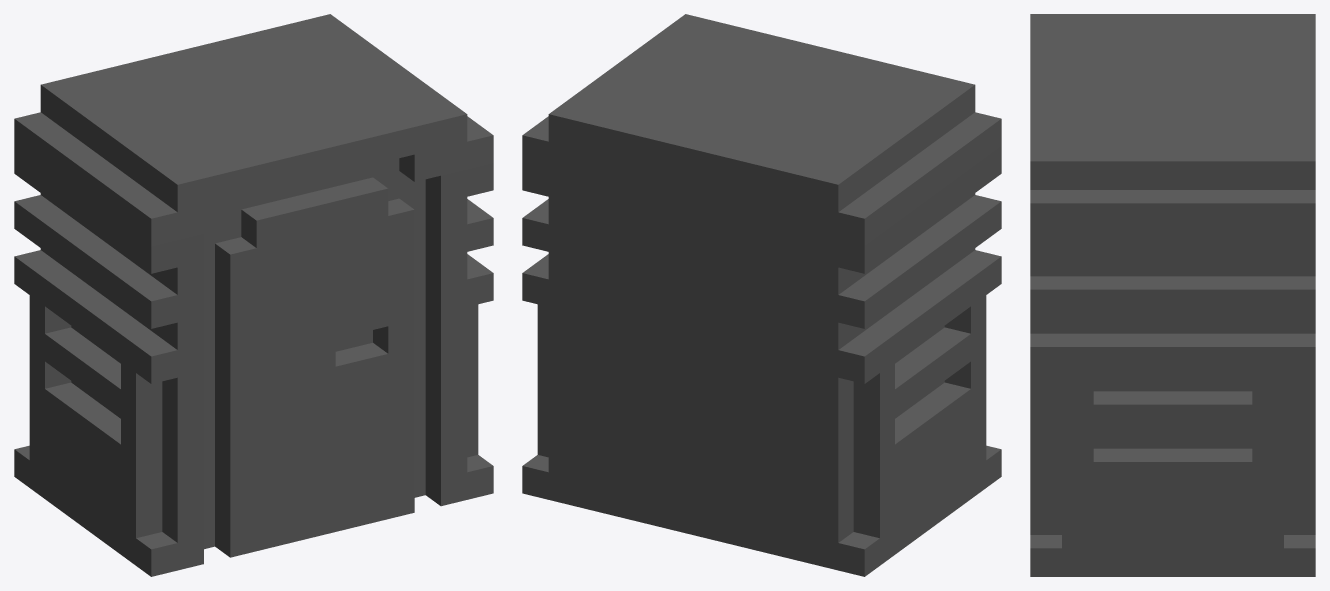
The model's file is scene_store10.obj.
The picture shows the model from 3 angles, left to right: view 1: azimuth 30°, elevation 25°; view 2: azimuth 150°, elevation 25°; view 3: azimuth 270°, elevation 25°; orthographic projection. The views are drawn at different scales.
Size of the model in its own units: 13 by 14 by 9.
